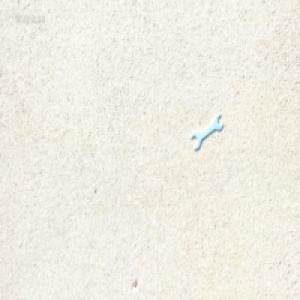Wrench: (191, 114, 222, 150)
